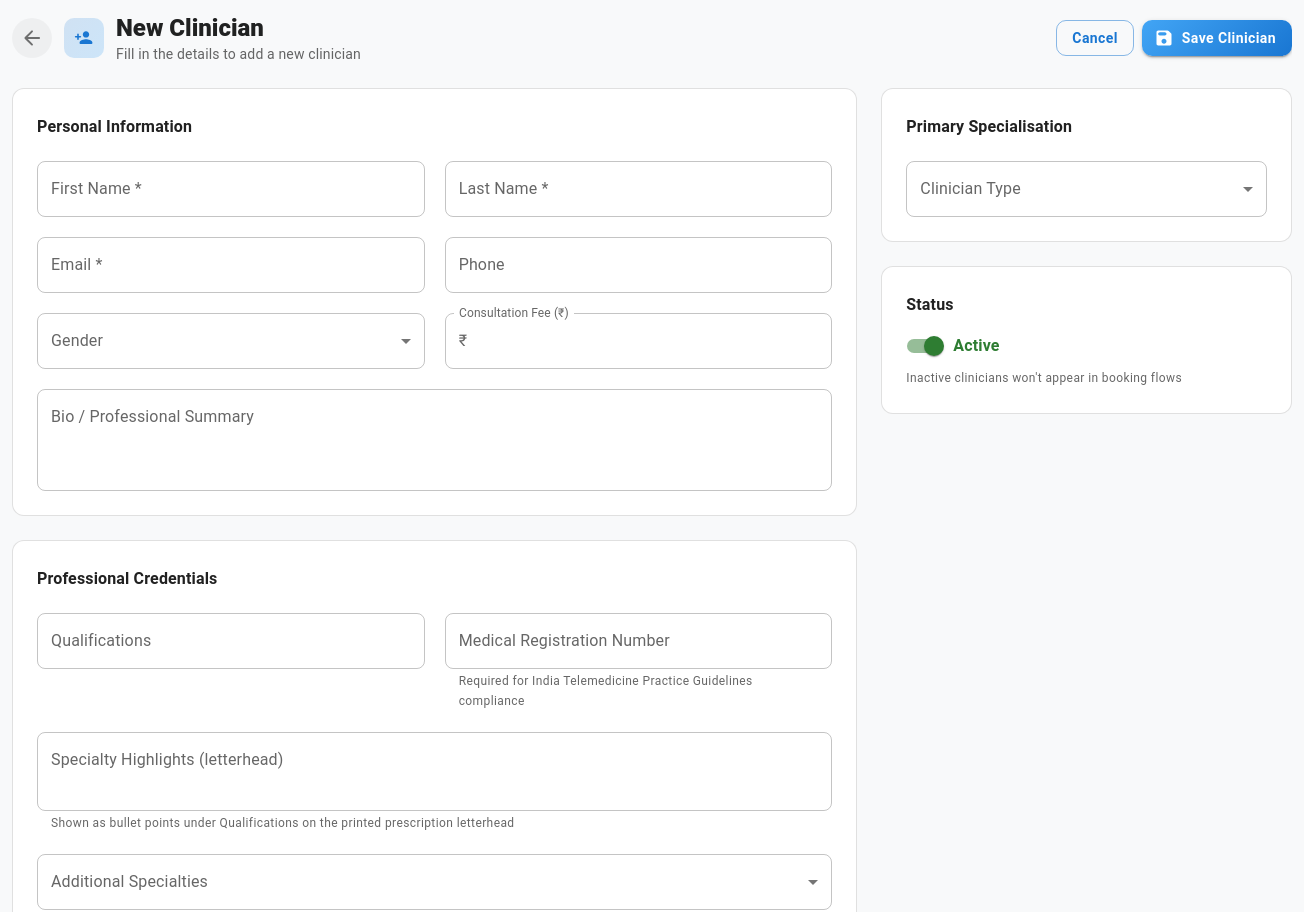
Test: clinicians/CreateClinicianPage (REQ141) › creates a clinician end-to-end via the real createClinician mutation
The width and height of the screenshot is (1304, 912).
Type "Sarah" into the field labelled "First Name *". click: (231, 189)
box: [37,161,425,217]
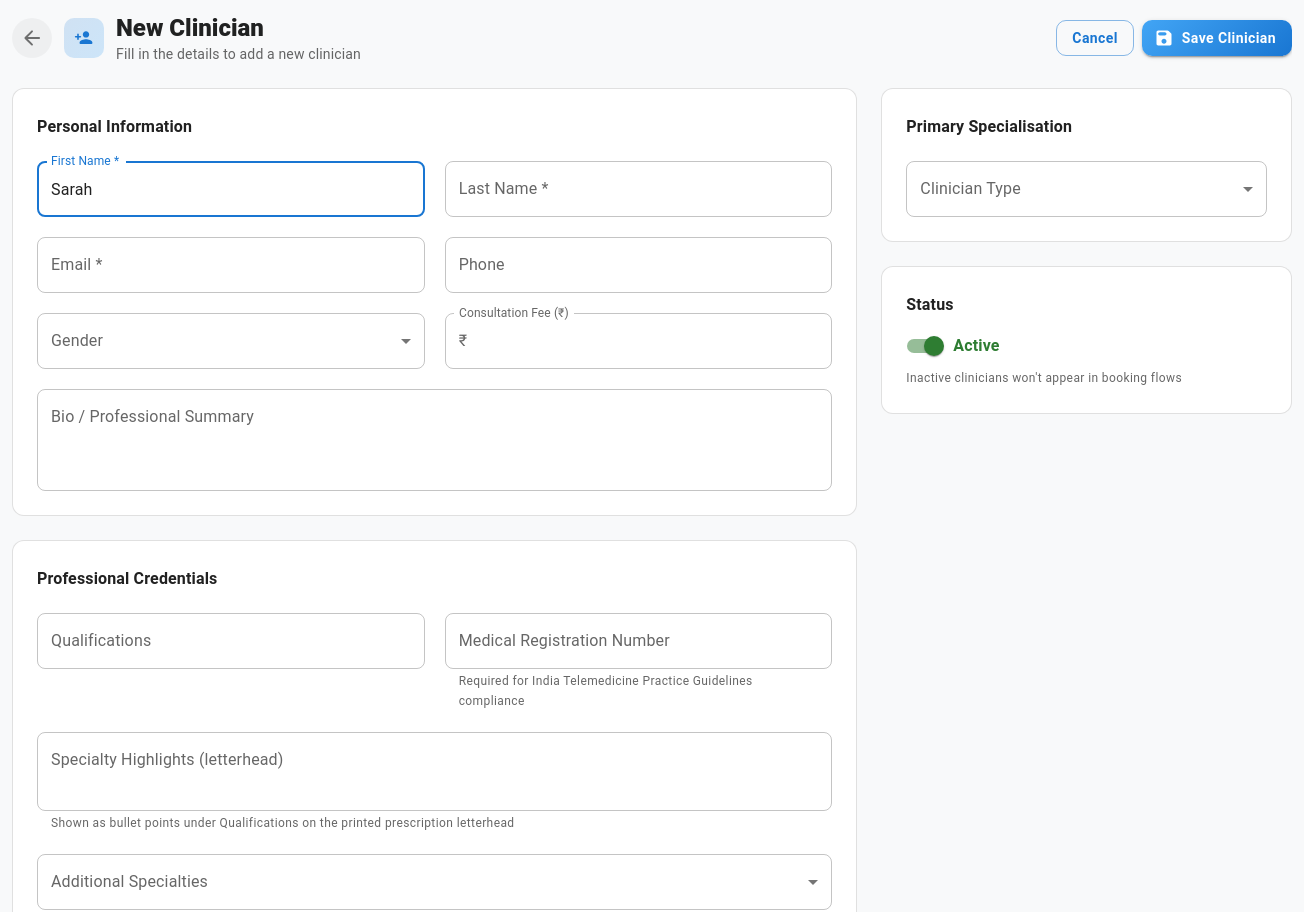
Type "Mitchell" into the field labelled "Last Name *". click: (639, 189)
box: [445,161,832,217]
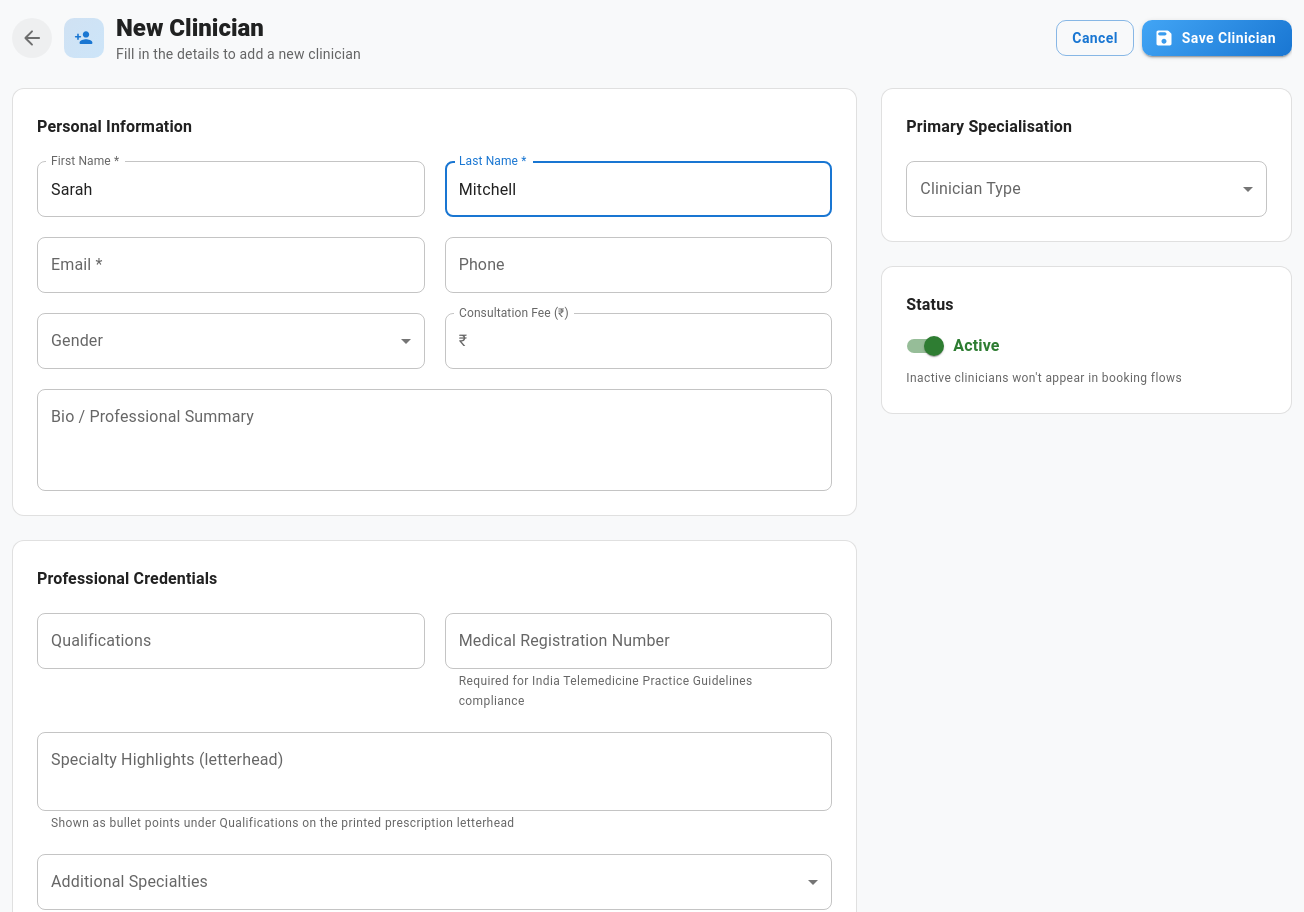
Type "sarah@example.com" into the field labelled "Email *". click: (231, 265)
box: [37,237,425,293]
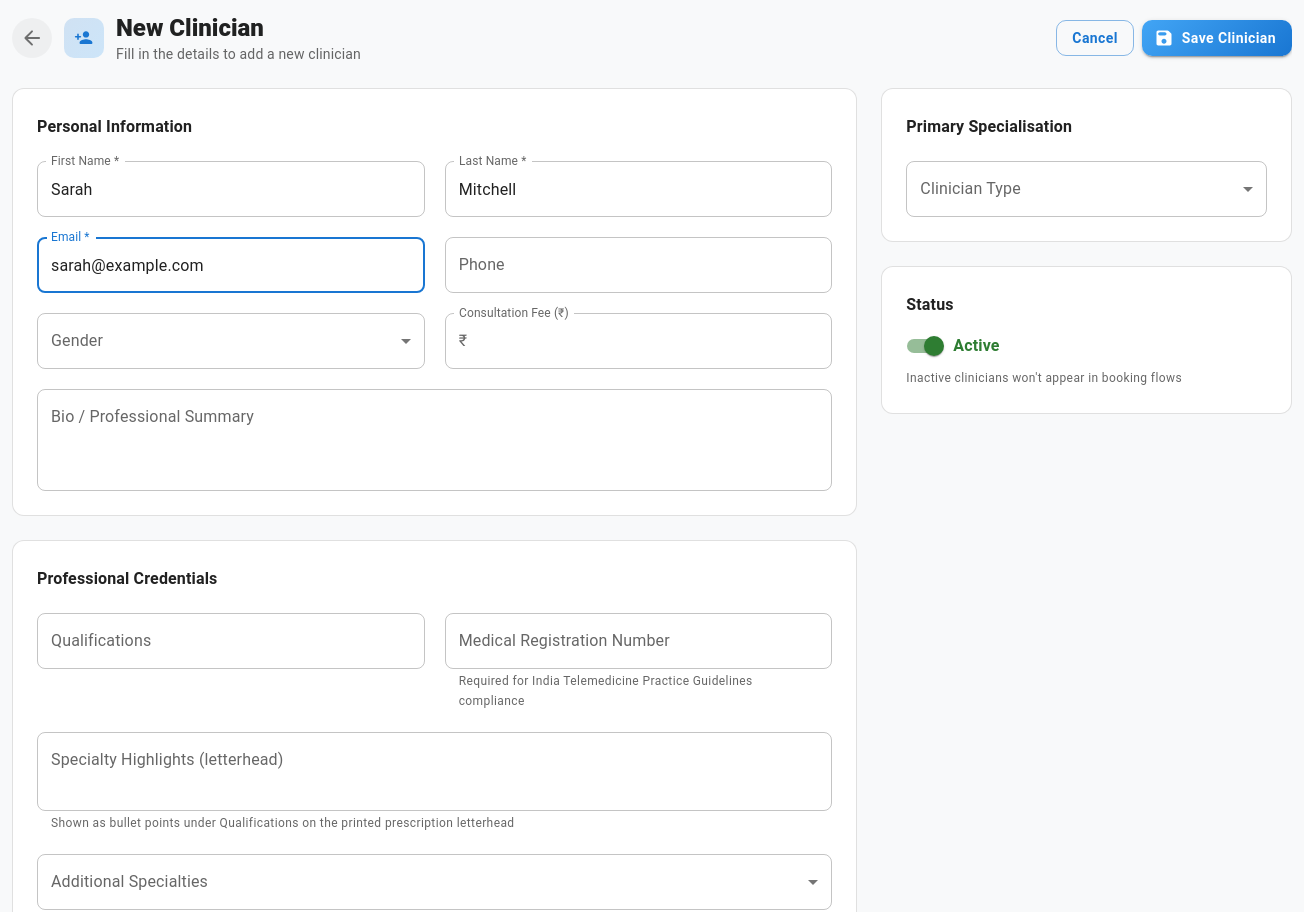
Click the button "Save Clinician". click: (1217, 38)
box: [1142,20,1292,56]
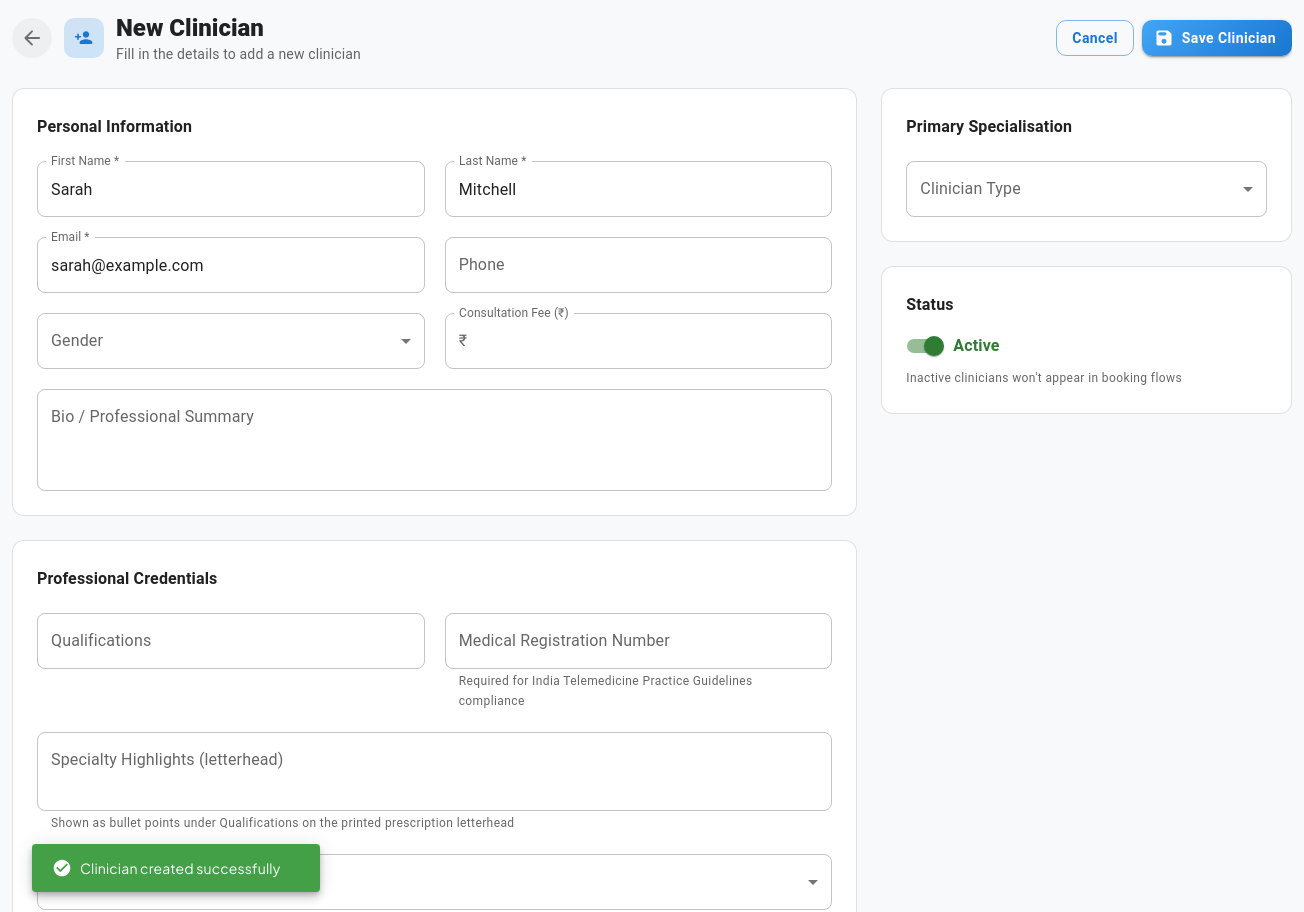
Now the text "Clinician created successfully" is shown, box [52,858,280,878]
